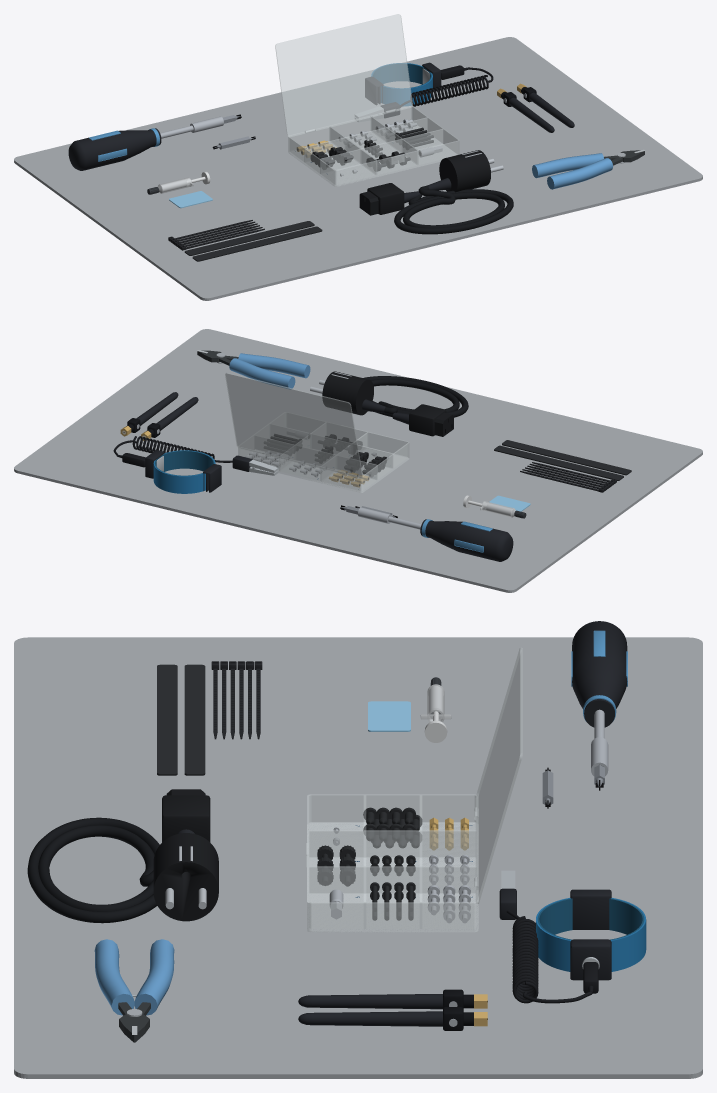
The model's file is t_kit.glb.
3 renders of one model, top to bottom at view 1: azimuth 30°, elevation 25°; view 2: azimuth 150°, elevation 25°; view 3: azimuth 270°, elevation 25°, orthographic. The views are drawn at different scales.
Visible parts, largest first — view 1: tool_kit; view 2: tool_kit; view 3: tool_kit.
Boxes of the visible parts, x1,y1,x2,y2 form: tool_kit: [14, 14, 702, 300]; tool_kit: [14, 329, 702, 592]; tool_kit: [14, 621, 702, 1078].
Size of the model in its own units: 6 by 1.17 by 4.
